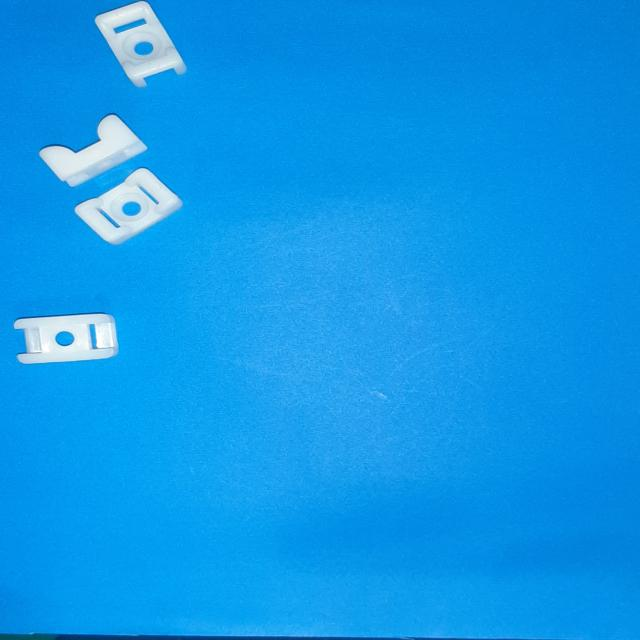false_1: (13, 314, 118, 364)
false_2: (40, 114, 147, 186)
true: (75, 168, 182, 245), (95, 1, 187, 88)
true_center: (135, 42, 154, 56), (122, 202, 140, 216)
